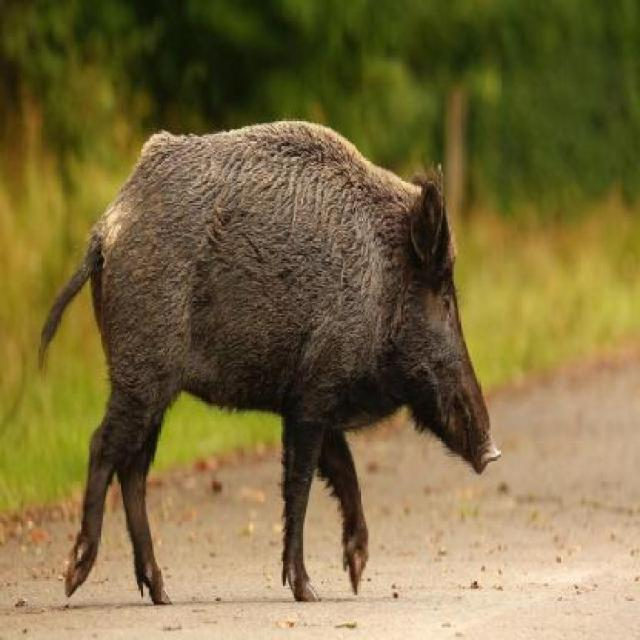wildboar: (37, 112, 503, 606)
